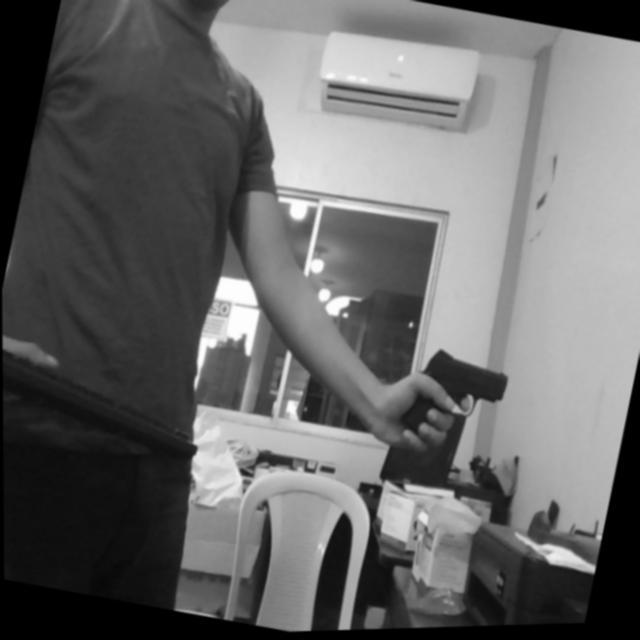weapon: (394, 342, 512, 455)
